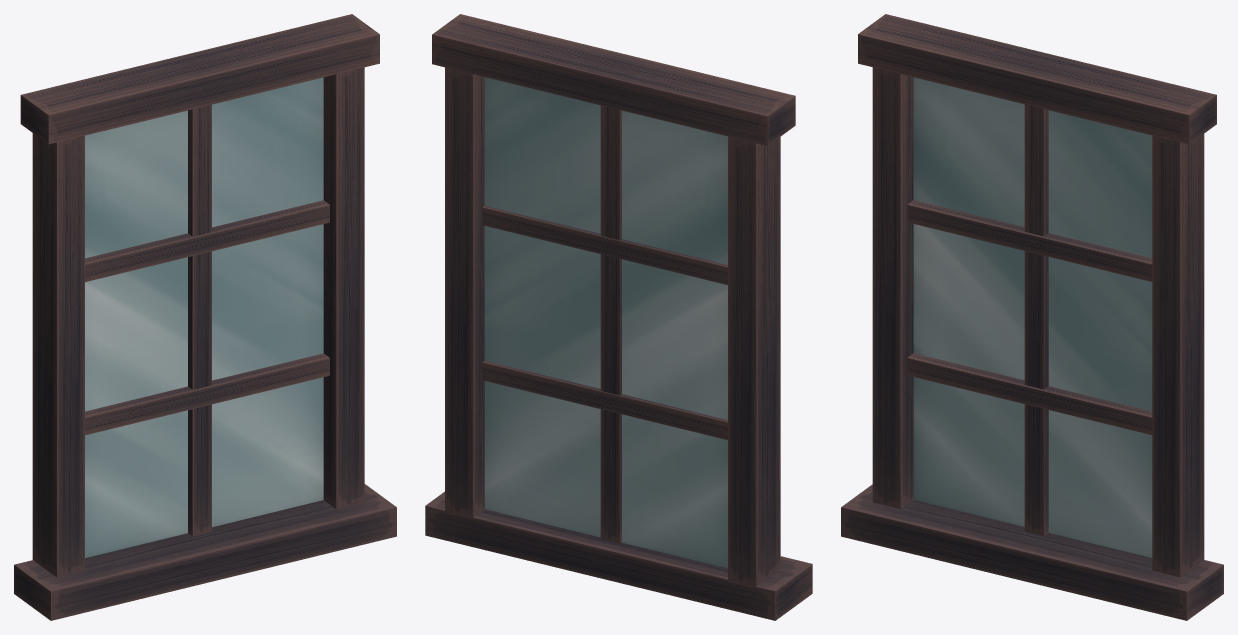
The model's file is Window_C.fbx.
The picture shows the model from 3 angles, left to right: view 1: azimuth 30°, elevation 25°; view 2: azimuth 150°, elevation 25°; view 3: azimuth 330°, elevation 25°; orthographic projection.
Visible parts, largest first — view 1: Window_C; view 2: Window_C; view 3: Window_C.
Part boxes in pixels (x1,y1,x2,y2): Window_C: (14,14,396,620); Window_C: (425,14,812,620); Window_C: (841,14,1223,620).
Size of the model in its own units: 0.1554 by 0.2134 by 0.0291.
